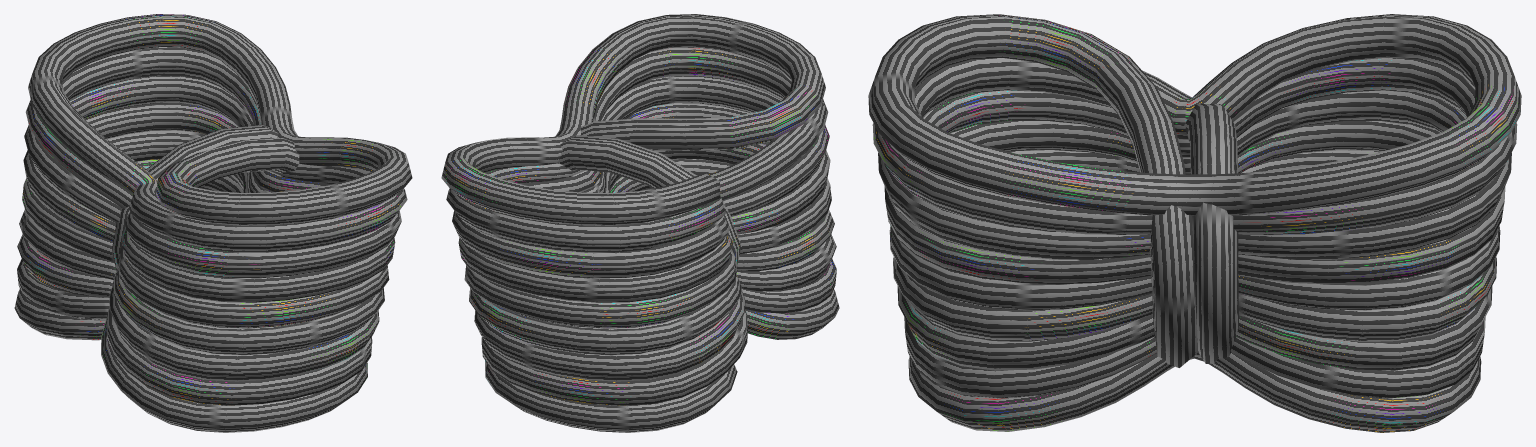
File: arBackTight_20200223.dae
3 views of the same model, side by side, from view 1: azimuth 30°, elevation 25°; view 2: azimuth 150°, elevation 25°; view 3: azimuth 270°, elevation 25° (orthographic). The views are drawn at different scales.
Visible parts, largest first — view 1: NurbsPath; view 2: NurbsPath; view 3: NurbsPath.
Boxes of the visible parts, x1,y1,x2,y2 form: NurbsPath: [14, 14, 412, 432]; NurbsPath: [441, 14, 839, 432]; NurbsPath: [868, 14, 1521, 432].
Bounding box in the file's own units: 0.1014 × 0.1657 × 0.0916.
1 material, 1 textured.
